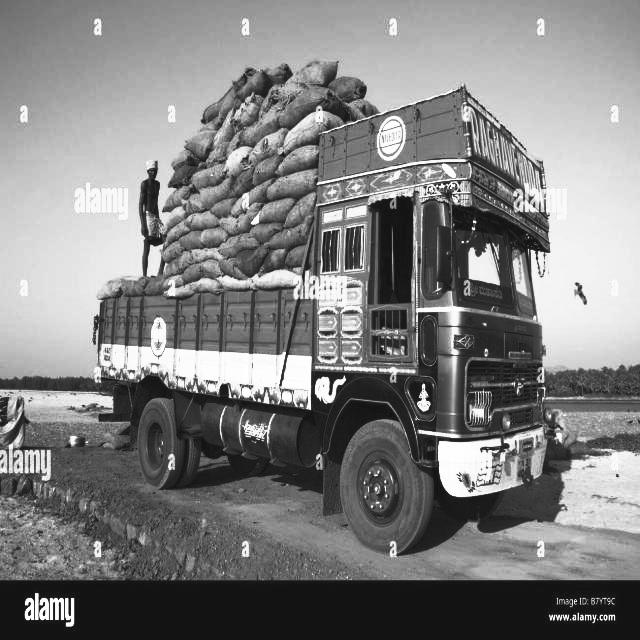HCV: (82, 40, 576, 558)
